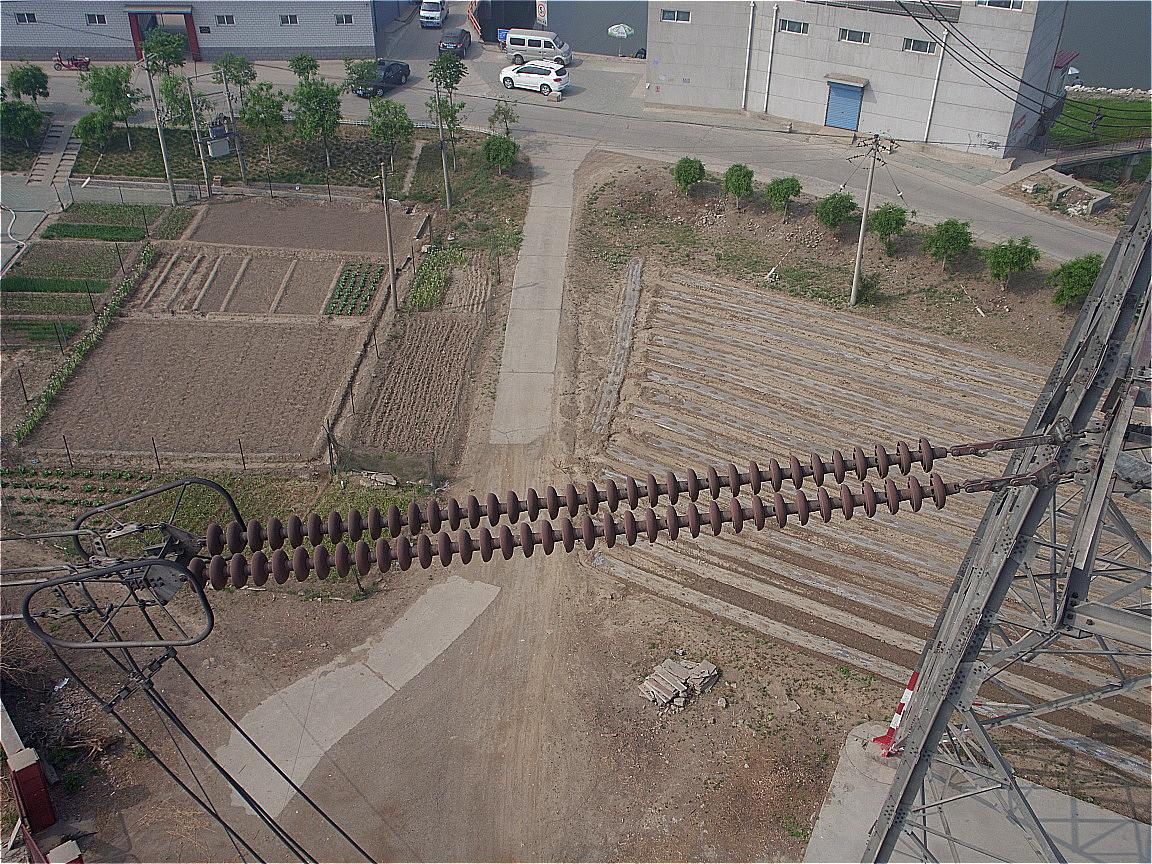insultor1: (159, 434, 971, 600)
